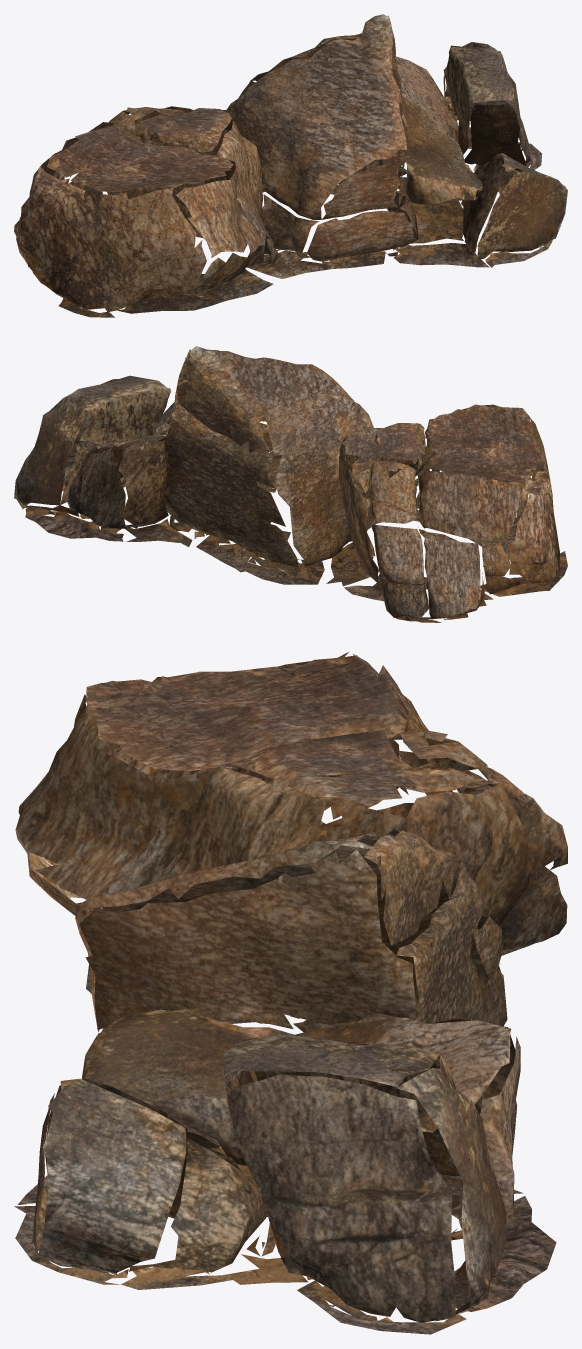
Rendered from rock_a.glb.
3 views of the same model, one above another, from view 1: azimuth 30°, elevation 25°; view 2: azimuth 150°, elevation 25°; view 3: azimuth 270°, elevation 25° (orthographic). The views are drawn at different scales.
Parts seen in each view (by area): view 1: rock_a; view 2: rock_a; view 3: rock_a.
Boxes of the visible parts, x1,y1,x2,y2 form: rock_a: [14, 14, 567, 317]; rock_a: [14, 346, 567, 622]; rock_a: [14, 651, 567, 1334].
Size of the model in its own units: 2.51 by 0.8721 by 1.22.
1 material, 1 textured.
